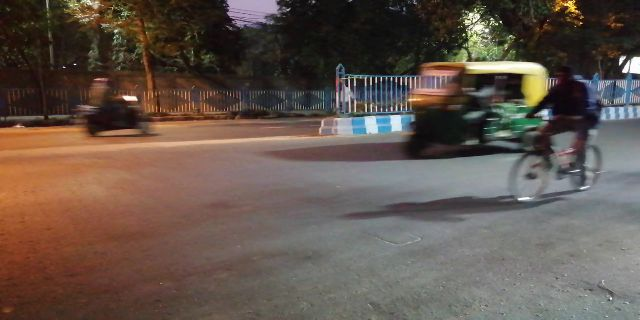Autorickshaw: (397, 55, 543, 151)
Cycle: (510, 56, 606, 207)
Motorbike: (75, 69, 157, 141)
